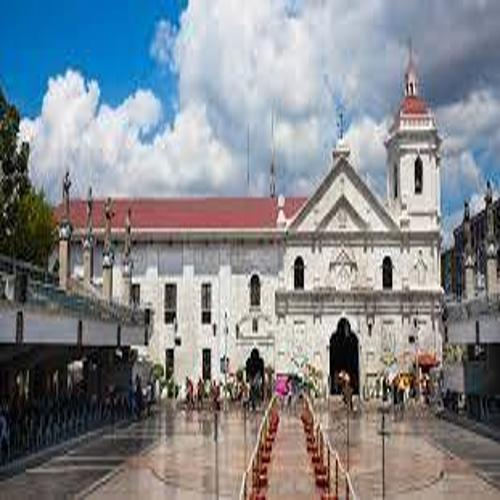Sto. Nino Basilica Church: (276, 33, 455, 419)
